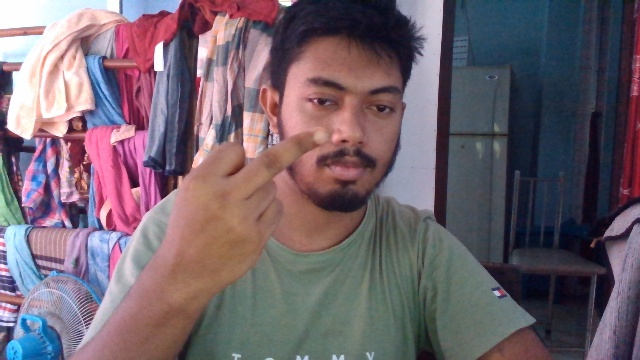fucku: (166, 126, 332, 277)
